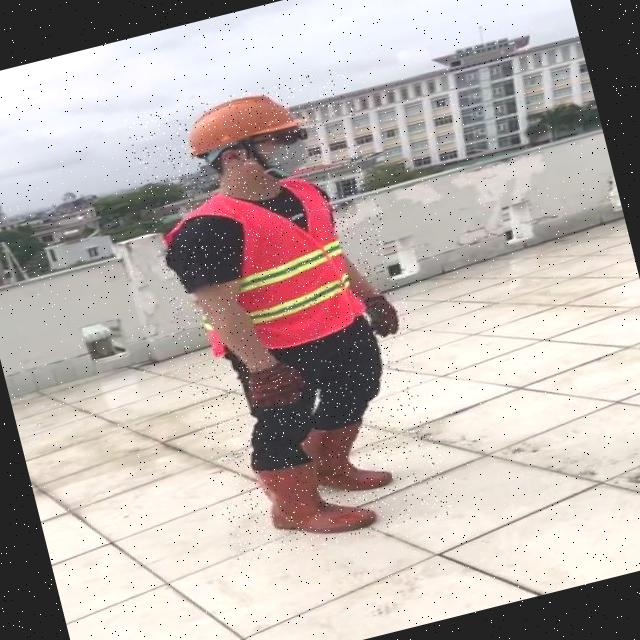boots: (248, 441, 376, 552), (302, 412, 399, 502)
helmet: (175, 80, 312, 158)
vest: (164, 173, 366, 364)
